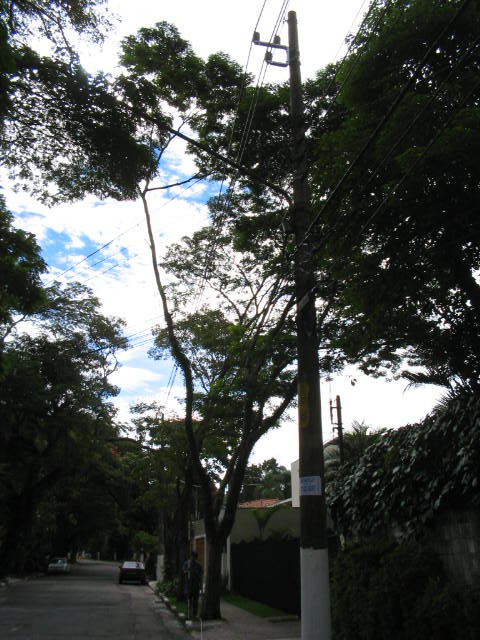crown: (80, 20, 406, 383)
stem: (193, 537, 230, 619)
stick: (178, 500, 194, 619)
tree: (81, 19, 406, 620)
